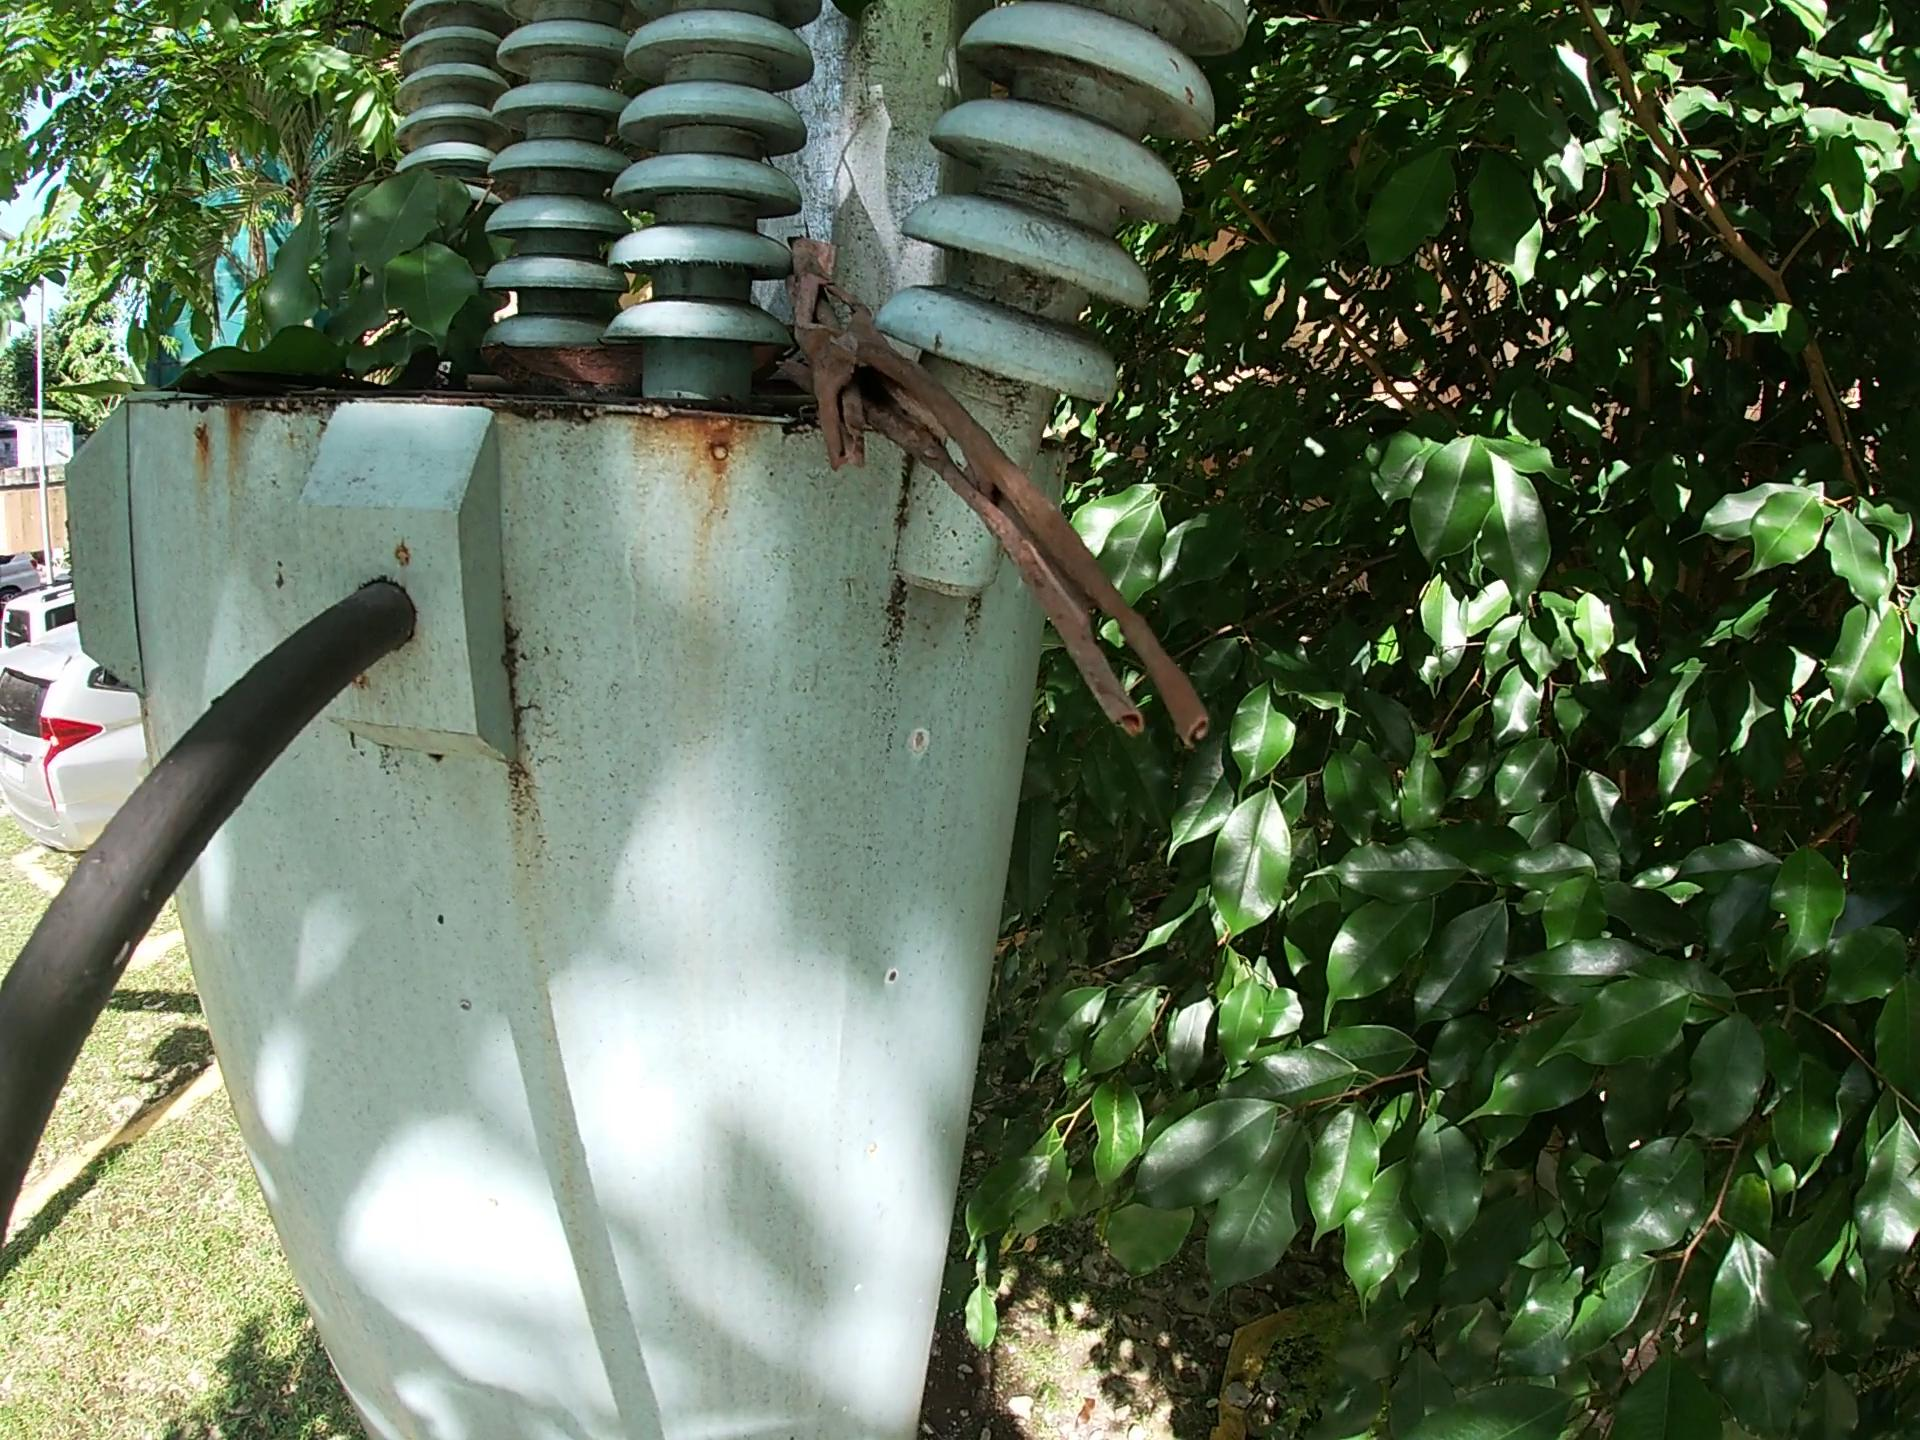branch with leaves: (45, 156, 500, 390)
mahogany fruit: (497, 334, 656, 390)
tree branch: (779, 228, 1222, 753), (547, 386, 726, 408), (461, 366, 531, 386)
